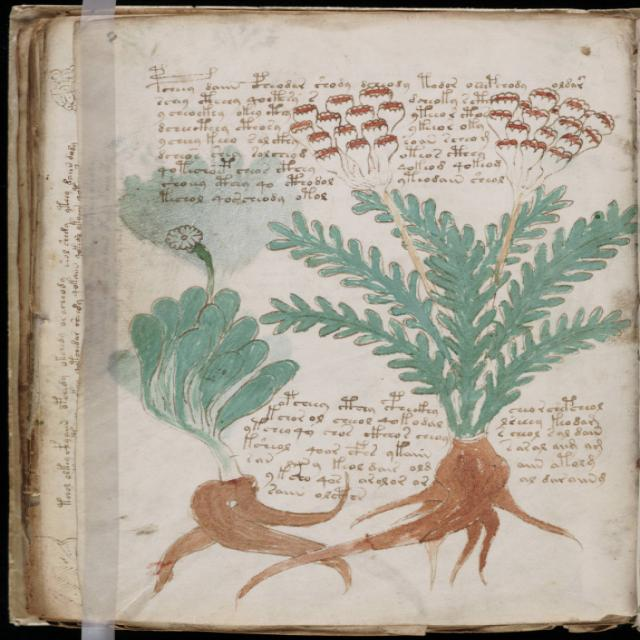plant: (238, 77, 637, 600), (127, 222, 360, 591)
